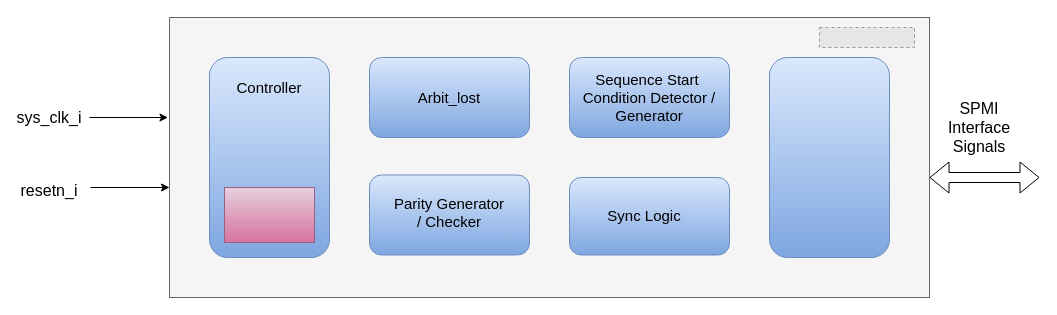
This 1057x315 diagram has some shape labels left out. Grey dashed boxes stand in for pictures. The box of each missing label's shape, as (x1, y1, x2, y2) in pixels:
NVM Registers: (768, 56, 890, 258)
Operating States: (224, 186, 314, 242)
